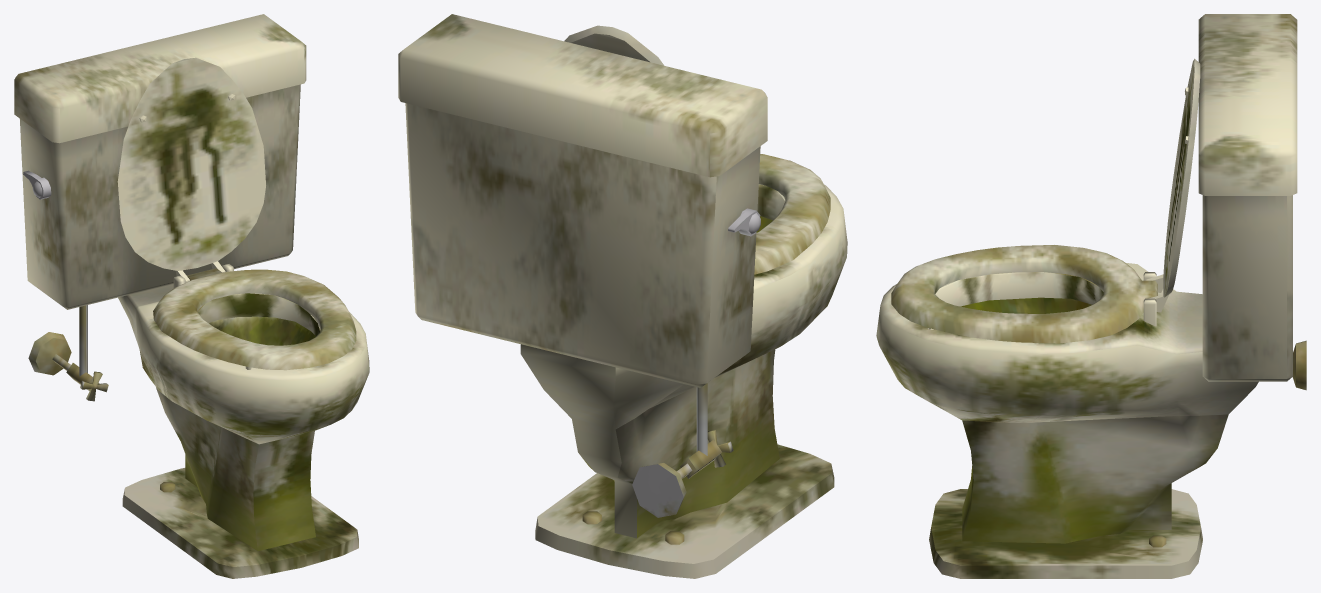
File: ToiletDirty.obj
3 renders of one model, left to right at view 1: azimuth 30°, elevation 25°; view 2: azimuth 150°, elevation 25°; view 3: azimuth 270°, elevation 25°, orthographic. The views are drawn at different scales.
Parts seen in each view (by area): view 1: ToiletCheap; view 2: ToiletCheap; view 3: ToiletCheap.
Part boxes in pixels (x1,y1,x2,y2): ToiletCheap: (14, 14, 369, 578); ToiletCheap: (398, 14, 847, 578); ToiletCheap: (876, 14, 1306, 578).
Bounding box in the file's own units: 0.5541 × 0.861 × 0.7049.
2 materials, 2 textured.
